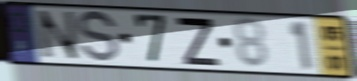1: (288, 19, 315, 73)
7: (131, 12, 168, 67)
8: (231, 16, 273, 72)
N: (35, 9, 83, 62)
S: (76, 9, 121, 66)
Z: (173, 15, 222, 68)
